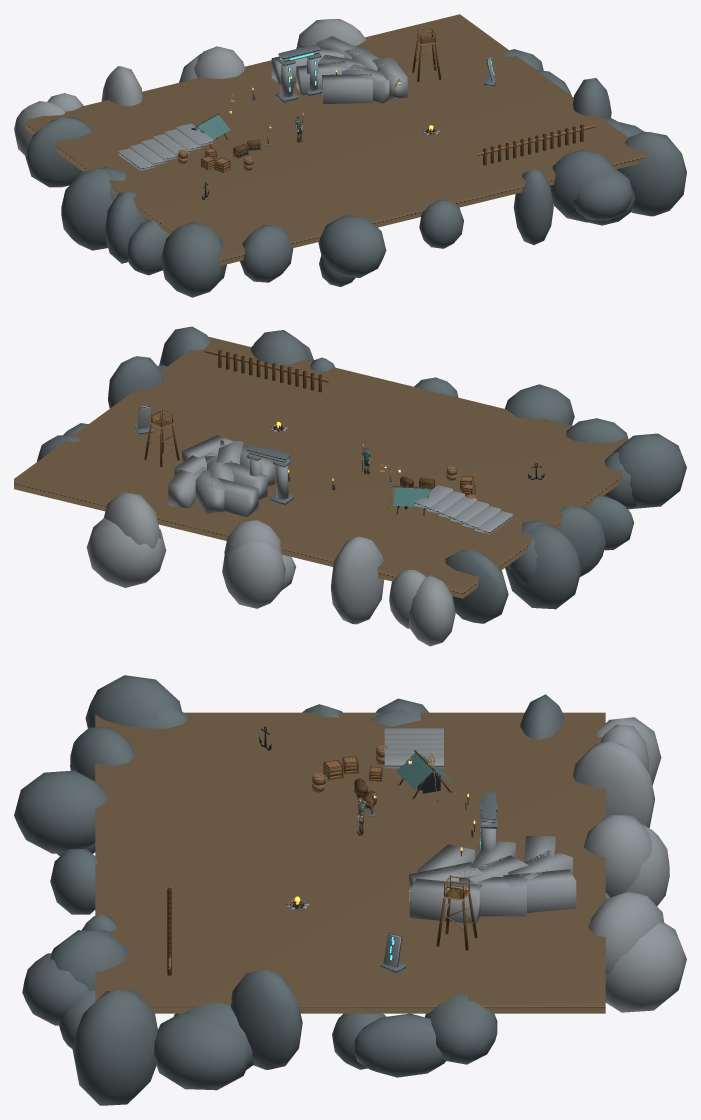
File: 3D模型 scene_camp_cliff.glb
The picture shows the model from 3 angles, top to bottom: view 1: azimuth 30°, elevation 25°; view 2: azimuth 150°, elevation 25°; view 3: azimuth 270°, elevation 25°; orthographic projection. The views are drawn at different scales.
Parts seen in each view (by area): view 1: cliff_top, cliff_rock_07, cliff_rock_02, cliff_rock_05, cliff_rock_26, cliff_rock_22, cliff_rock_25, cliff_rock_17, cliff_rock_09, cliff_rock_21, cliff_rock_10, cliff_rock_01 (+15 smaller); view 2: cliff_top, cliff_rock_26, cliff_rock_02, cliff_rock_12, cliff_rock_16, cliff_rock_04, cliff_rock_22, cliff_rock_28, cliff_rock_24, cliff_rock_10, cliff_rock_05, cliff_rock_23 (+17 smaller); view 3: cliff_top, cliff_rock_07, cliff_rock_05, cliff_rock_15, cliff_rock_23, cliff_rock_16, cliff_rock_19, cliff_rock_12, cliff_rock_00, cliff_rock_27, cliff_rock_24, cliff_rock_02 (+22 smaller).
Part boxes in pixels (x1,y1,x2,y2): cliff_top: [26, 14, 647, 265]; cliff_rock_07: [617, 131, 686, 216]; cliff_rock_02: [160, 221, 225, 297]; cliff_rock_05: [318, 215, 386, 277]; cliff_rock_26: [61, 168, 112, 250]; cliff_rock_22: [25, 117, 92, 187]; cliff_rock_25: [550, 150, 615, 222]; cliff_rock_17: [240, 225, 293, 282]; cliff_rock_09: [513, 169, 553, 245]; cliff_rock_21: [573, 169, 633, 220]; cliff_rock_10: [104, 190, 149, 263]; cliff_rock_01: [419, 199, 463, 248]; cliff_top: [14, 336, 628, 598]; cliff_rock_26: [505, 525, 581, 609]; cliff_rock_02: [613, 433, 686, 508]; cliff_rock_12: [331, 536, 384, 624]; cliff_rock_16: [86, 517, 166, 587]; cliff_rock_04: [222, 541, 285, 608]; cliff_rock_22: [445, 549, 508, 623]; cliff_rock_28: [409, 575, 455, 646]; cliff_rock_24: [103, 492, 160, 548]; cliff_rock_10: [557, 506, 605, 576]; cliff_rock_05: [505, 384, 574, 425]; cliff_rock_23: [108, 356, 163, 408]; cliff_top: [95, 712, 605, 1013]; cliff_rock_07: [72, 989, 157, 1105]; cliff_rock_05: [14, 770, 108, 853]; cliff_rock_15: [154, 1012, 249, 1090]; cliff_rock_23: [230, 969, 302, 1069]; cliff_rock_16: [605, 923, 686, 1012]; cliff_rock_19: [353, 1013, 446, 1077]; cliff_rock_12: [573, 741, 654, 827]; cliff_rock_00: [583, 814, 652, 897]; cliff_rock_27: [425, 993, 497, 1064]; cliff_rock_24: [588, 890, 664, 973]; cliff_rock_02: [85, 675, 181, 727].
Size of the model in its own units: 37.76 by 8.36 by 31.64.
